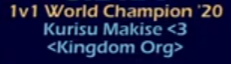0: (211, 3, 223, 18)
1: (9, 4, 17, 17), (30, 4, 38, 17)
2: (201, 3, 211, 18)
3: (176, 22, 186, 35)
<: (46, 41, 56, 52), (166, 23, 175, 34)
>: (172, 41, 183, 52)
C: (102, 4, 114, 17)
K: (42, 22, 54, 36), (56, 40, 68, 54)
M: (102, 22, 118, 35)
O: (139, 39, 155, 54)
W: (43, 3, 63, 18)
a: (126, 7, 137, 18), (118, 25, 129, 36)
d: (96, 39, 107, 54), (87, 4, 98, 17)
e: (151, 25, 162, 36)
g: (84, 42, 96, 58), (162, 43, 173, 57)
h: (115, 3, 125, 17)
i: (138, 21, 144, 36), (67, 39, 73, 54), (164, 3, 169, 18), (73, 21, 78, 36)
k: (129, 22, 138, 36)
l: (82, 3, 86, 17)
m: (119, 42, 135, 54), (137, 7, 152, 17)
n: (180, 6, 192, 17), (73, 42, 84, 53)
o: (107, 43, 119, 54), (169, 7, 180, 18), (63, 7, 74, 17)
p: (153, 7, 164, 21)
r: (66, 24, 74, 35), (155, 43, 162, 54), (75, 7, 82, 17)
s: (78, 25, 86, 36), (144, 25, 151, 36)
u: (54, 24, 66, 36), (86, 25, 97, 36)
v: (17, 6, 28, 18)
